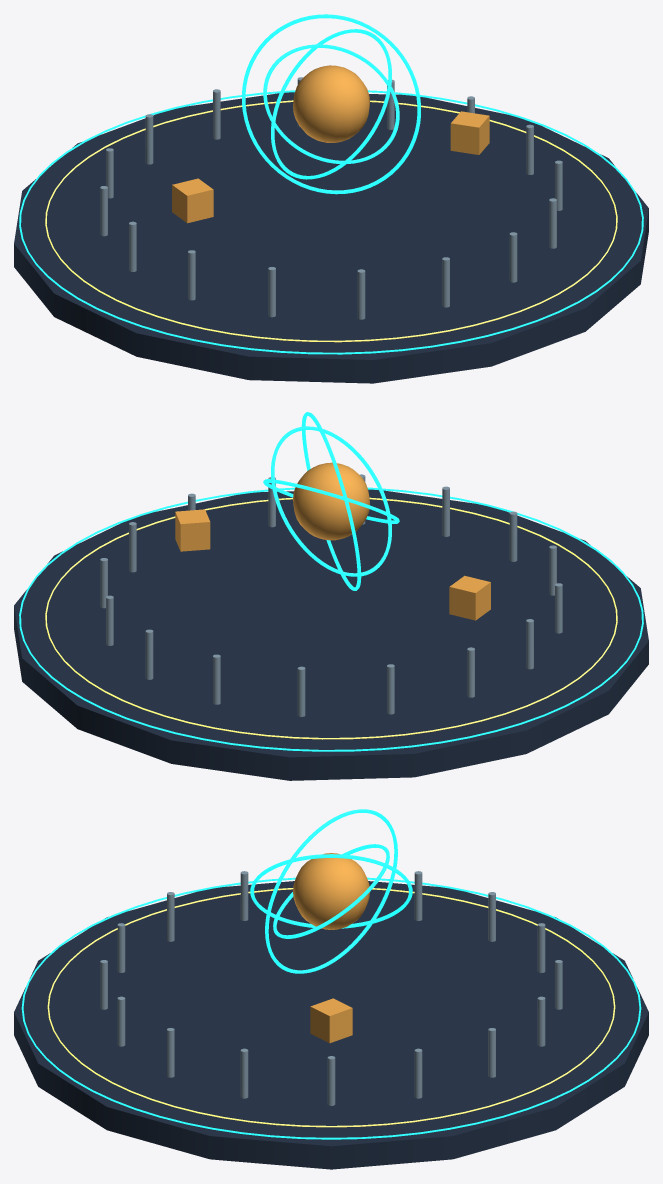
The picture shows the model from 3 angles, top to bottom: view 1: azimuth 30°, elevation 25°; view 2: azimuth 150°, elevation 25°; view 3: azimuth 270°, elevation 25°; orthographic projection.
Visible parts, largest first — view 1: Shape, SourceBody, Shape.001, Shape.002, SourceBody.003, SourceBody.002, SourceBody.001, SharedModule, SharedModule.001; view 2: Shape, SourceBody, Shape.001, Shape.002, SourceBody.002, SharedModule, SharedModule.001, SourceBody.003, SourceBody.001; view 3: Shape, SourceBody, Shape.001, Shape.002, SourceBody.003, SharedModule.001, SourceBody.002, SourceBody.001.
Part boxes in pixels (<box>): Shape: <box>14,92,648,383</box>; SourceBody: <box>293,65,369,142</box>; Shape.001: <box>19,90,643,354</box>; Shape.002: <box>45,100,617,342</box>; SourceBody.003: <box>242,14,420,194</box>; SourceBody.002: <box>271,29,391,179</box>; SourceBody.001: <box>263,44,399,163</box>; SharedModule: <box>172,178,213,223</box>; SharedModule.001: <box>450,111,489,154</box>; Shape: <box>14,489,648,780</box>; SourceBody: <box>293,462,369,540</box>; Shape.001: <box>19,487,643,751</box>; Shape.002: <box>45,497,617,739</box>; SourceBody.002: <box>271,426,391,576</box>; SharedModule: <box>449,575,490,620</box>; SharedModule.001: <box>175,509,210,551</box>; SourceBody.003: <box>301,412,361,590</box>; SourceBody.001: <box>263,479,399,523</box>; Shape: <box>14,881,648,1169</box>; SourceBody: <box>293,853,369,929</box>; Shape.001: <box>21,877,641,1139</box>; Shape.002: <box>47,888,615,1127</box>; SourceBody.003: <box>265,809,397,973</box>; SharedModule.001: <box>310,998,352,1043</box>; SourceBody.002: <box>250,854,412,928</box>; SourceBody.001: <box>273,844,389,938</box>.
Bounding box in the file's own units: 14.8 × 5.81 × 14.8.
